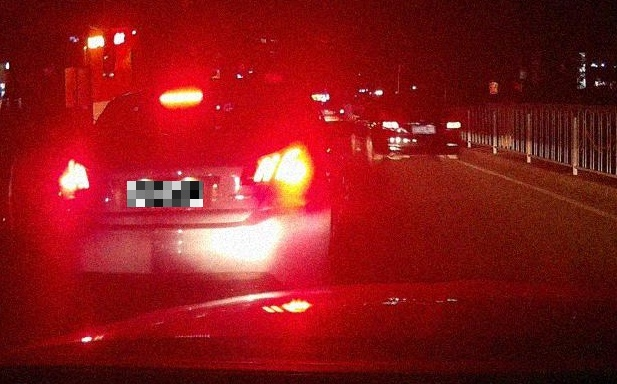L_light: (60, 159, 94, 198), (383, 121, 399, 129)
R_light: (239, 141, 313, 195), (446, 122, 461, 129)
T_light: (158, 89, 203, 104), (403, 102, 416, 106)
night-brake: (59, 82, 331, 302)
night-no: (380, 99, 462, 165)
plate_1: (127, 181, 203, 207)
